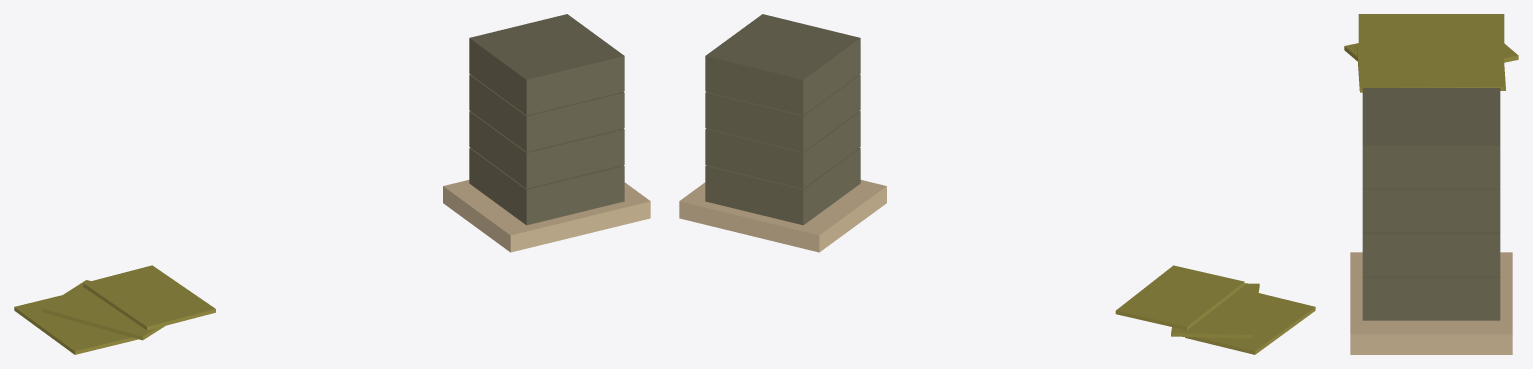
The model's file is SM_ObraSacos_v2_8m_LOD0.fbx.
3 views of the same model, side by side, from view 1: azimuth 30°, elevation 25°; view 2: azimuth 150°, elevation 25°; view 3: azimuth 270°, elevation 25° (orthographic). The views are drawn at different scales.
Parts seen in each view (by area): view 1: SM_obra_curso_v4_LOD0; view 2: SM_obra_curso_v4_LOD0; view 3: SM_obra_curso_v4_LOD0.
Boxes of the visible parts, x1,y1,x2,y2 form: SM_obra_curso_v4_LOD0: (14,14,650,354); SM_obra_curso_v4_LOD0: (679,14,1315,354); SM_obra_curso_v4_LOD0: (1344,14,1518,354).
Bounding box in the file's own units: 4.9 × 1.34 × 1.07.
